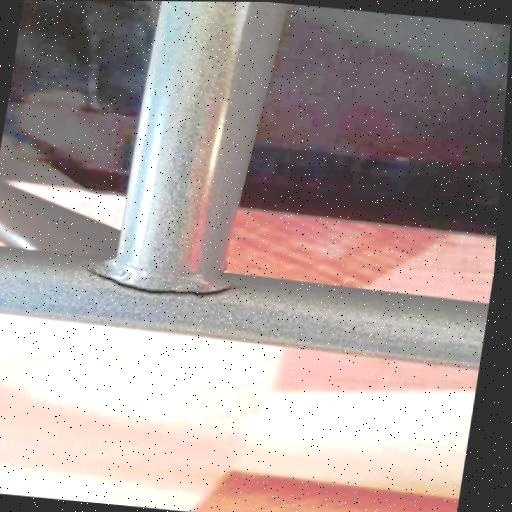crack: (69, 247, 252, 313)
